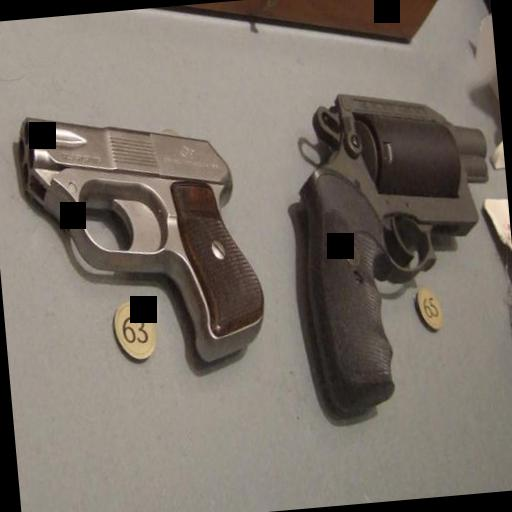Handgun: (282, 76, 509, 425), (12, 94, 270, 386)
